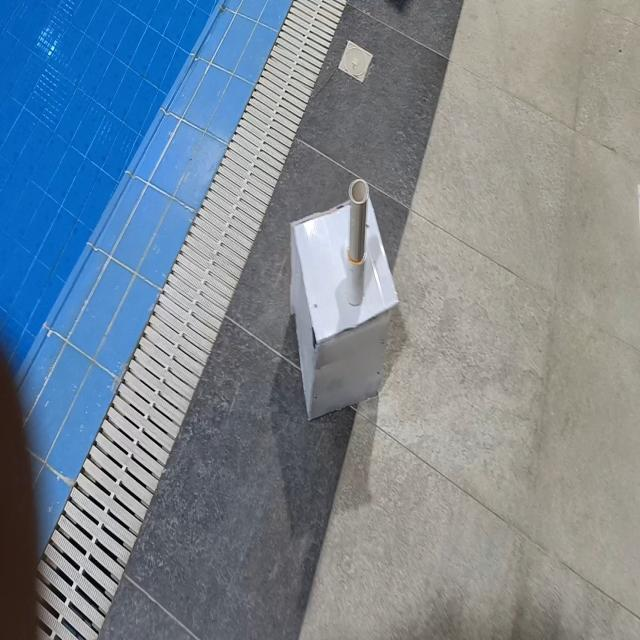Cube: (288, 178, 399, 421)
